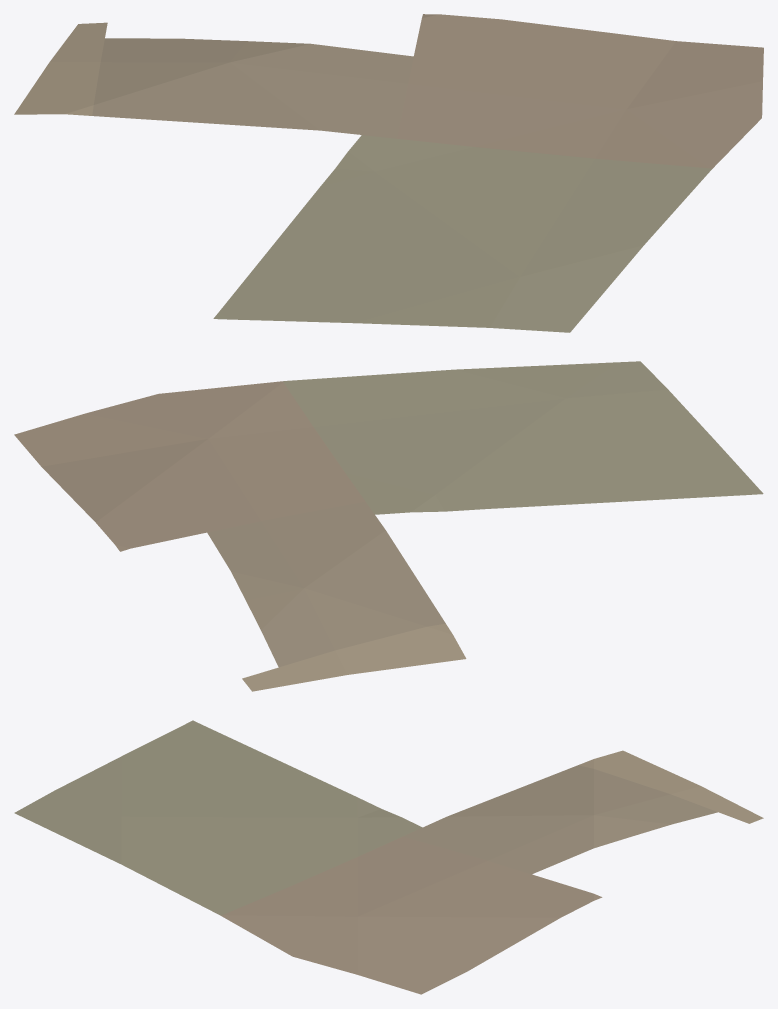
Rendered from farm_2_-5_soil.glb.
The picture shows the model from 3 angles, top to bottom: view 1: azimuth 30°, elevation 25°; view 2: azimuth 150°, elevation 25°; view 3: azimuth 270°, elevation 25°; orthographic projection. The views are drawn at different scales.
Parts seen in each view (by area): view 1: geometry_0; view 2: geometry_0; view 3: geometry_0.
Boxes of the visible parts, x1,y1,x2,y2 form: geometry_0: [14, 14, 763, 332]; geometry_0: [14, 361, 763, 691]; geometry_0: [14, 720, 763, 994].
Bounding box in the file's own units: 220 × 8.09 × 254.
